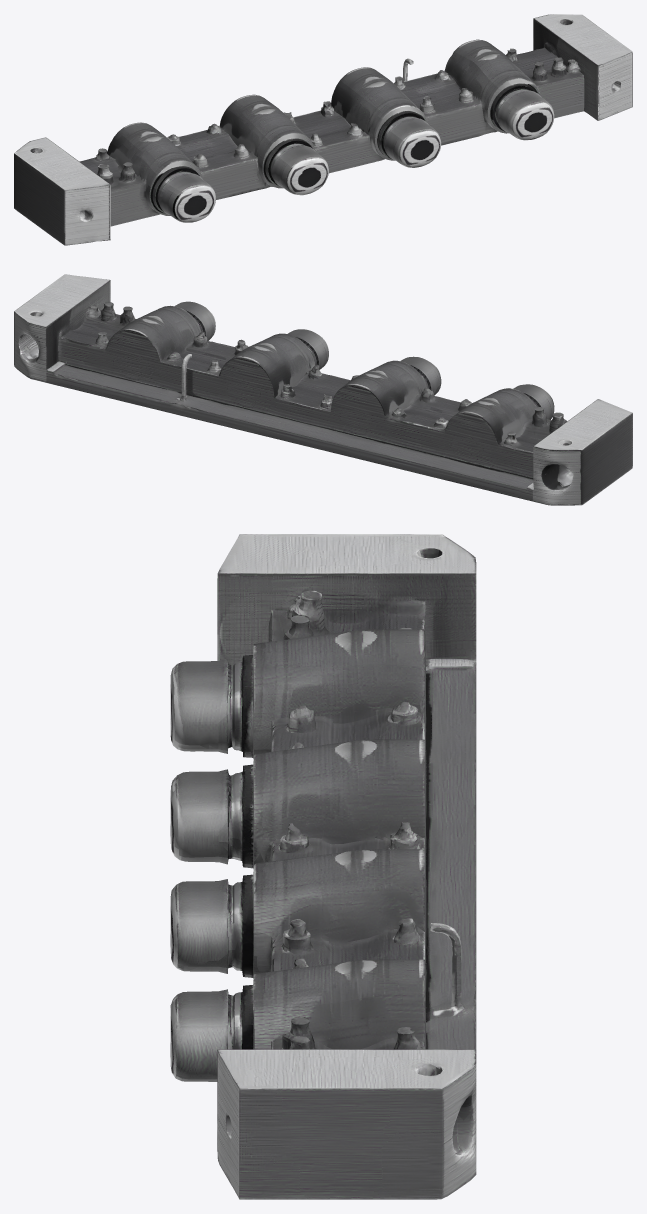
The model's file is fuel-rail.glb.
3 renders of one model, top to bottom at view 1: azimuth 30°, elevation 25°; view 2: azimuth 150°, elevation 25°; view 3: azimuth 270°, elevation 25°, orthographic. The views are drawn at different scales.
Bounding box in the file's own units: 1.9 × 0.1952 × 0.4427.
Materials: 1 (1 with a texture image).
